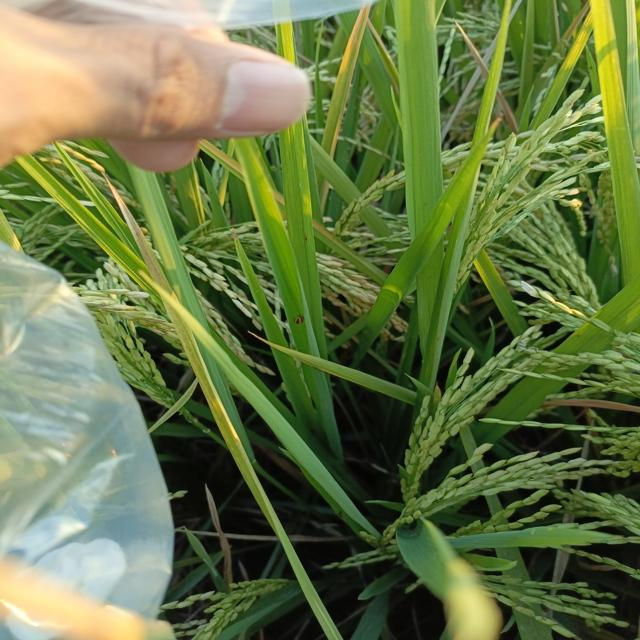Brown spot: (91, 172, 198, 358), (454, 17, 512, 100), (336, 0, 383, 86), (545, 392, 640, 416), (204, 139, 252, 180), (489, 109, 506, 142)
insects: (304, 231, 311, 248)
